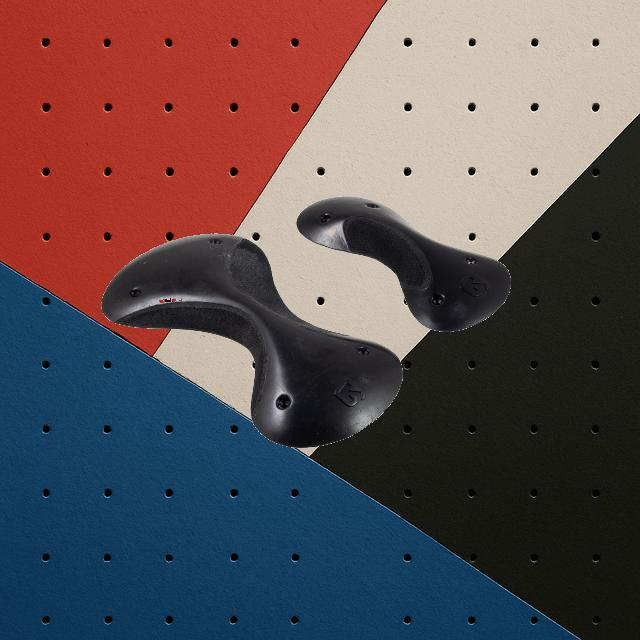Sloper: (100, 233, 404, 452), (296, 193, 512, 334)
